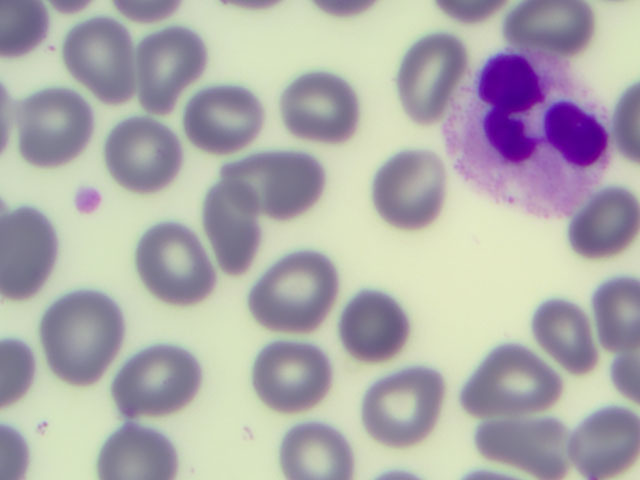Platelets: (74, 190, 103, 220)
RBC: (252, 250, 338, 333), (357, 370, 446, 450), (43, 299, 124, 378), (278, 72, 362, 143), (372, 149, 444, 230), (140, 227, 207, 312), (228, 156, 324, 214), (257, 343, 335, 411), (2, 210, 58, 304), (87, 426, 183, 480), (19, 95, 92, 166), (207, 186, 266, 272), (478, 350, 554, 416), (109, 125, 181, 194), (537, 294, 596, 376), (187, 89, 262, 151), (70, 23, 134, 94), (395, 38, 449, 121), (345, 291, 409, 360), (116, 356, 193, 413), (489, 417, 565, 473), (508, 1, 599, 46), (277, 432, 356, 480), (142, 33, 190, 110), (565, 202, 640, 251), (590, 281, 640, 345), (1, 1, 40, 59), (616, 88, 640, 159), (104, 1, 184, 21), (435, 1, 503, 23), (312, 1, 367, 22)
WBC: (459, 57, 607, 213)
